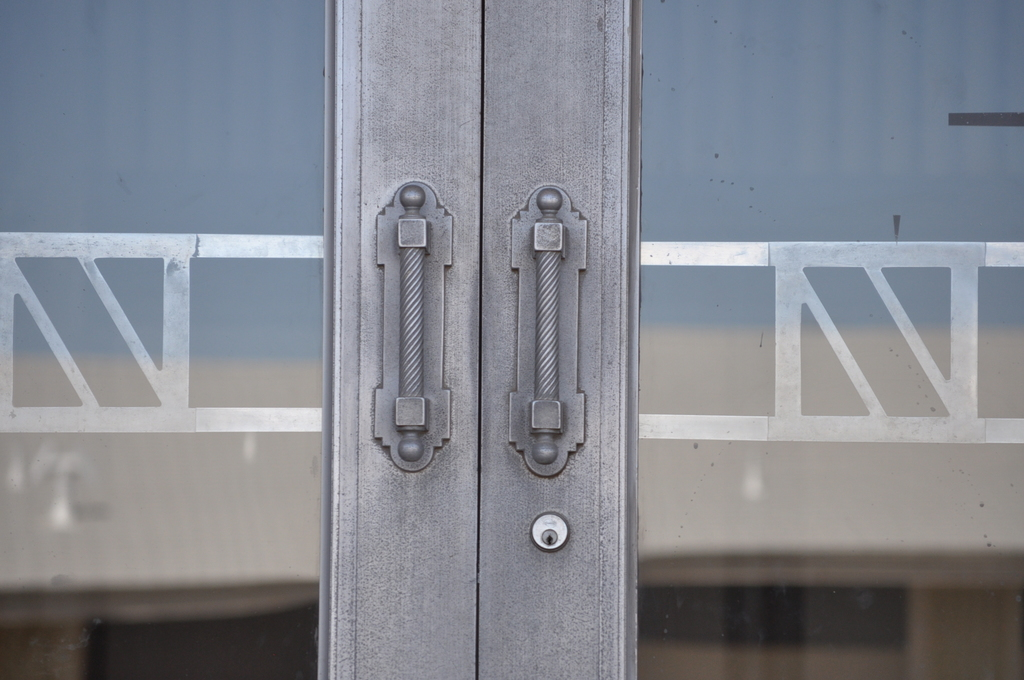door: (494, 15, 1024, 680), (2, 4, 464, 671)
handle: (519, 194, 574, 456), (390, 190, 445, 451)
